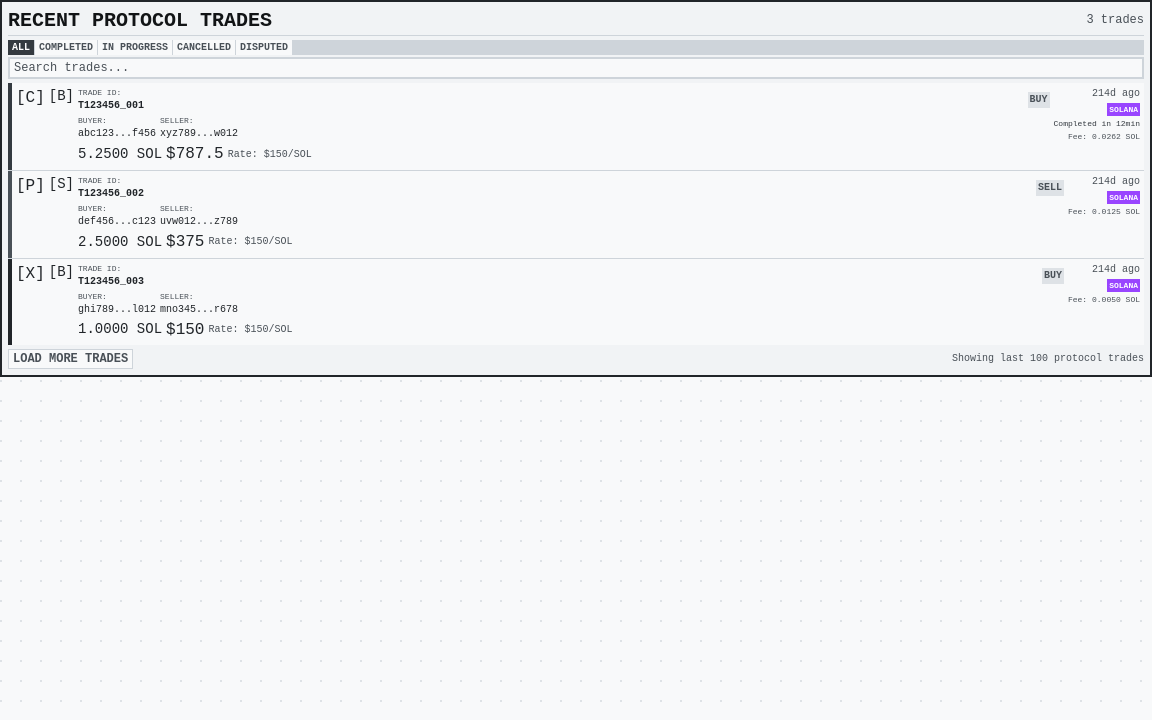
Test: RecentTrades › searches trades by trade ID
Step 1. Type "001" into the field with placeholder "Search trades..." → [576, 68], box [8, 57, 1144, 79]
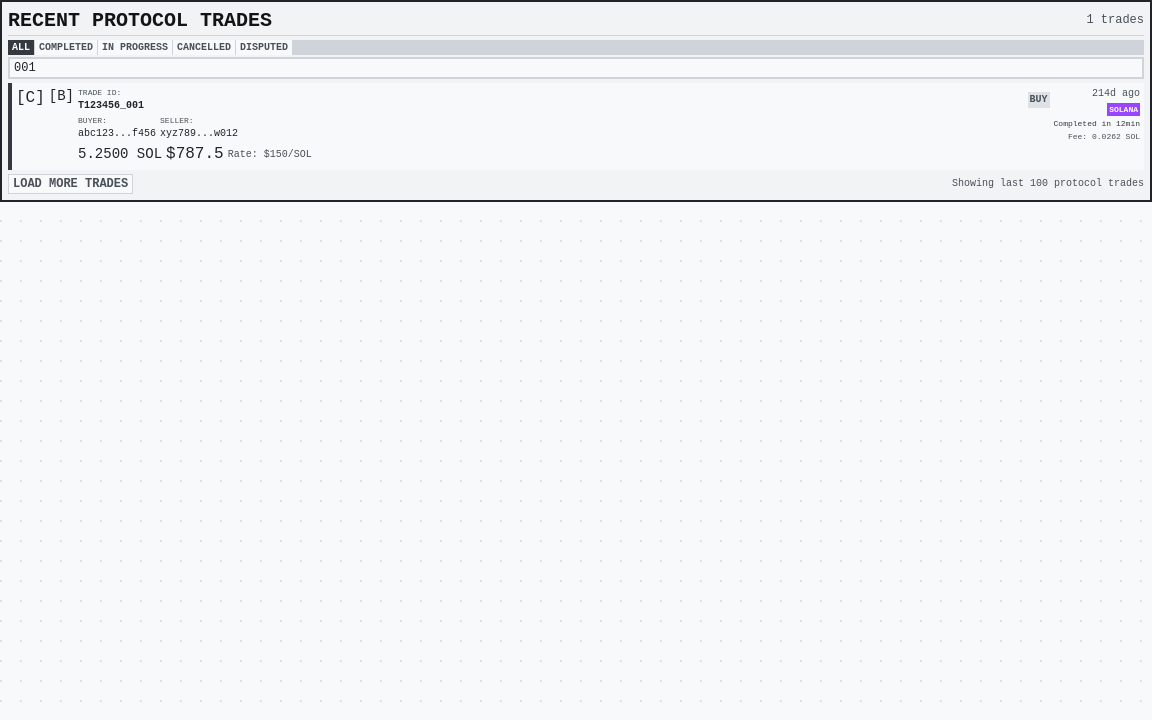
Expected: the text "1 trades" is shown, [1086, 13, 1144, 27]
Expected: the text "T123456_002" is gone
Expected: the text "T123456_003" is gone
